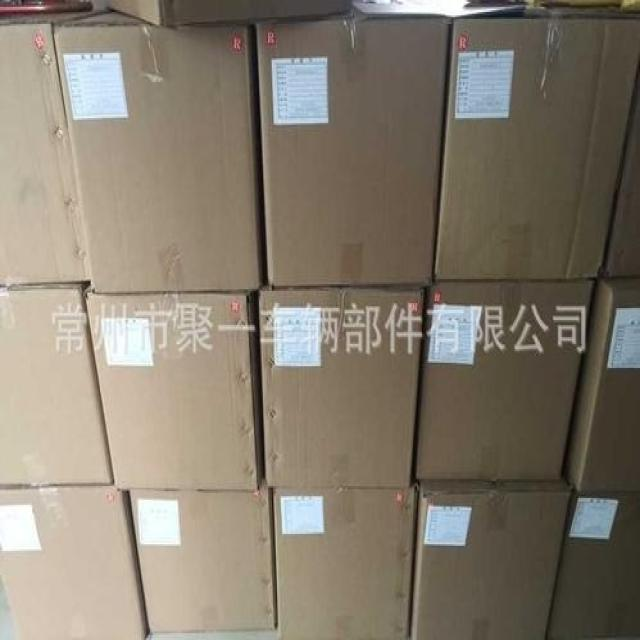box: (51, 5, 264, 292), (254, 0, 455, 289), (434, 2, 639, 278), (416, 278, 597, 481), (89, 291, 266, 490), (262, 288, 425, 488), (0, 2, 105, 292), (408, 479, 575, 638), (128, 468, 275, 636), (0, 282, 117, 486), (272, 481, 418, 638), (1, 486, 149, 637), (565, 276, 639, 493), (546, 488, 638, 638), (600, 75, 639, 277), (95, 0, 354, 28)
